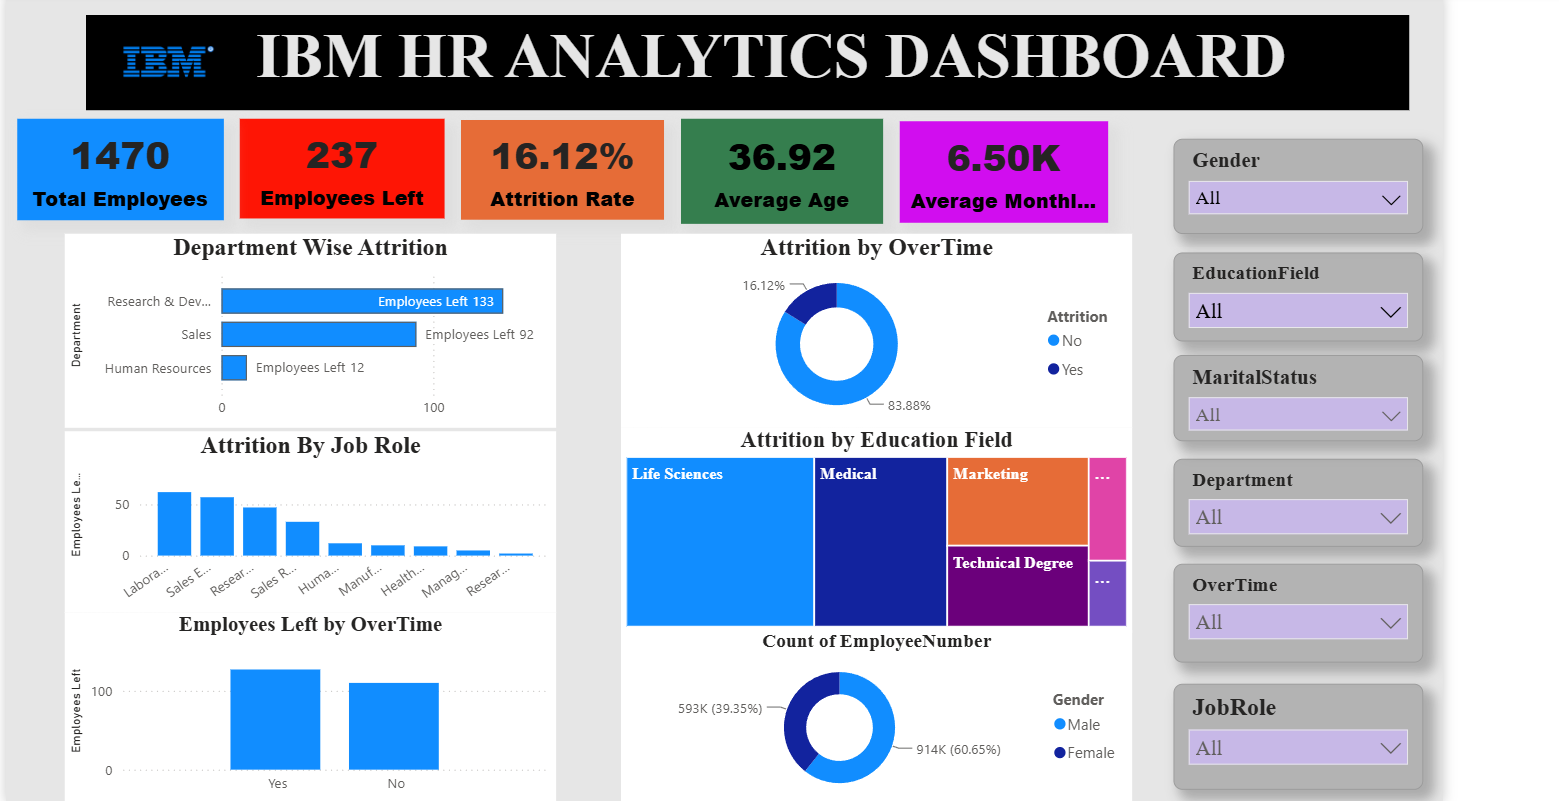

The page's visual inventory and layout, read from the dashboard file:
{"tool":"powerbi","page":{"name":"Page 1","canvas":[1280,720],"ordinal":0},"visuals":[{"type":"card","fields":{"Values":["WA_Fn-UseC_-HR-Employee-Attrition.Employees Left"]},"box":[208.6,109.8,182.5,89.2],"z":0},{"type":"card","fields":{"Values":["WA_Fn-UseC_-HR-Employee-Attrition.Attrition Rate"]},"box":[404.8,111.1,181.1,89.2],"z":1000},{"type":"card","fields":{"Values":["WA_Fn-UseC_-HR-Employee-Attrition.Average Age"]},"box":[601,109.8,179.8,93.3],"z":2000},{"type":"card","fields":{"Values":["WA_Fn-UseC_-HR-Employee-Attrition.Average Monthly Income"]},"box":[795.9,112.5,185.2,90.6],"z":3000},{"type":"card","fields":{"Values":["WA_Fn-UseC_-HR-Employee-Attrition.Total Employees"]},"box":[10.2,110.6,183.8,90.2],"z":4000},{"type":"clusteredBarChart","title":"Department Wise Attrition","fields":{"Y":["WA_Fn-UseC_-HR-Employee-Attrition.Employees Left"],"Category":["WA_Fn-UseC_-HR-Employee-Attrition.Department"]},"box":[52.1,212.7,437.7,172.9],"z":5000},{"type":"donutChart","title":"Attrition by OverTime","fields":{"Category":["WA_Fn-UseC_-HR-Employee-Attrition.Attrition"],"Y":["WA_Fn-UseC_-HR-Employee-Attrition.Total Employees"]},"box":[547.5,212.7,455.6,172.9],"z":6000},{"type":"clusteredColumnChart","title":"Attrition By Job Role ","fields":{"Category":["WA_Fn-UseC_-HR-Employee-Attrition.JobRole"],"Y":["WA_Fn-UseC_-HR-Employee-Attrition.Employees Left"]},"box":[52.1,388.3,437.7,161.9],"z":7000},{"type":"slicer","fields":{"Values":["WA_Fn-UseC_-HR-Employee-Attrition.JobRole"]},"box":[1040.1,613.4,222.3,94.7],"z":8000},{"type":"slicer","fields":{"Values":["WA_Fn-UseC_-HR-Employee-Attrition.EducationField"]},"box":[1040.1,229.2,222.3,79.6],"z":9000},{"type":"slicer","fields":{"Values":["WA_Fn-UseC_-HR-Employee-Attrition.Department"]},"box":[1040.1,413,222.3,78.2],"z":10000},{"type":"slicer","fields":{"Values":["WA_Fn-UseC_-HR-Employee-Attrition.Gender"]},"box":[1040.1,127.6,222.3,85.1],"z":11000},{"type":"slicer","fields":{"Values":["WA_Fn-UseC_-HR-Employee-Attrition.MaritalStatus"]},"box":[1040.1,321.1,222.3,76.8],"z":12000},{"type":"slicer","fields":{"Values":["WA_Fn-UseC_-HR-Employee-Attrition.OverTime"]},"box":[1040.1,506.3,222.3,87.8],"z":13000},{"type":"treemap","title":"Attrition by Education Field","fields":{"Group":["WA_Fn-UseC_-HR-Employee-Attrition.EducationField"],"Values":["WA_Fn-UseC_-HR-Employee-Attrition.Employees Left"]},"box":[547.5,385.6,455.6,182.5],"z":14000},{"type":"clusteredColumnChart","fields":{"Category":["WA_Fn-UseC_-HR-Employee-Attrition.OverTime"],"Y":["WA_Fn-UseC_-HR-Employee-Attrition.Employees Left"]},"box":[52.1,550.3,437.7,170.2],"z":15000},{"type":"donutChart","title":"Count of EmployeeNumber","fields":{"Category":["WA_Fn-UseC_-HR-Employee-Attrition.Gender"],"Y":["Sum(WA_Fn-UseC_-HR-Employee-Attrition.EmployeeNumber)"]},"box":[547.5,565.4,455.6,155.1],"z":16000},{"type":"textbox","box":[71.4,17.8,1178.7,85.1],"z":18000},{"type":"image","box":[60.1,0,167,128],"z":18500}]}

Visuals, with their boxes on the page's 1280x720 design canvas (x1, y1, x2, y2). These are canvas units, not pixel positions in the 1559x801 screenshot, which may show the page scaled, cropped or inside an application window:
card - WA_Fn-UseC_-HR-Employee-Attrition.Employees Left: [x1=209, y1=110, x2=391, y2=199]
card - WA_Fn-UseC_-HR-Employee-Attrition.Attrition Rate: [x1=405, y1=111, x2=586, y2=200]
card - WA_Fn-UseC_-HR-Employee-Attrition.Average Age: [x1=601, y1=110, x2=781, y2=203]
card - WA_Fn-UseC_-HR-Employee-Attrition.Average Monthly Income: [x1=796, y1=112, x2=981, y2=203]
card - WA_Fn-UseC_-HR-Employee-Attrition.Total Employees: [x1=10, y1=111, x2=194, y2=201]
"Department Wise Attrition" clusteredBarChart: [x1=52, y1=213, x2=490, y2=386]
"Attrition by OverTime" donutChart: [x1=548, y1=213, x2=1003, y2=386]
"Attrition By Job Role " clusteredColumnChart: [x1=52, y1=388, x2=490, y2=550]
slicer - WA_Fn-UseC_-HR-Employee-Attrition.JobRole: [x1=1040, y1=613, x2=1262, y2=708]
slicer - WA_Fn-UseC_-HR-Employee-Attrition.EducationField: [x1=1040, y1=229, x2=1262, y2=309]
slicer - WA_Fn-UseC_-HR-Employee-Attrition.Department: [x1=1040, y1=413, x2=1262, y2=491]
slicer - WA_Fn-UseC_-HR-Employee-Attrition.Gender: [x1=1040, y1=128, x2=1262, y2=213]
slicer - WA_Fn-UseC_-HR-Employee-Attrition.MaritalStatus: [x1=1040, y1=321, x2=1262, y2=398]
slicer - WA_Fn-UseC_-HR-Employee-Attrition.OverTime: [x1=1040, y1=506, x2=1262, y2=594]
"Attrition by Education Field" treemap: [x1=548, y1=386, x2=1003, y2=568]
clusteredColumnChart - WA_Fn-UseC_-HR-Employee-Attrition.OverTime x WA_Fn-UseC_-HR-Employee-Attrition.Employees Left: [x1=52, y1=550, x2=490, y2=720]
"Count of EmployeeNumber" donutChart: [x1=548, y1=565, x2=1003, y2=720]
textbox: [x1=71, y1=18, x2=1250, y2=103]
image: [x1=60, y1=0, x2=227, y2=128]
